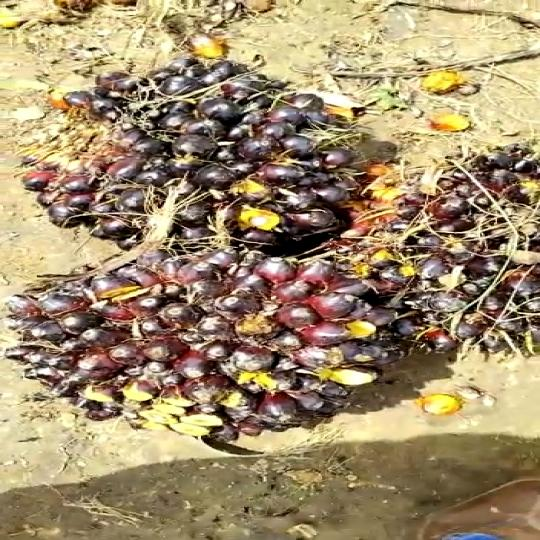mentah: (0, 253, 423, 443), (26, 43, 404, 252)
